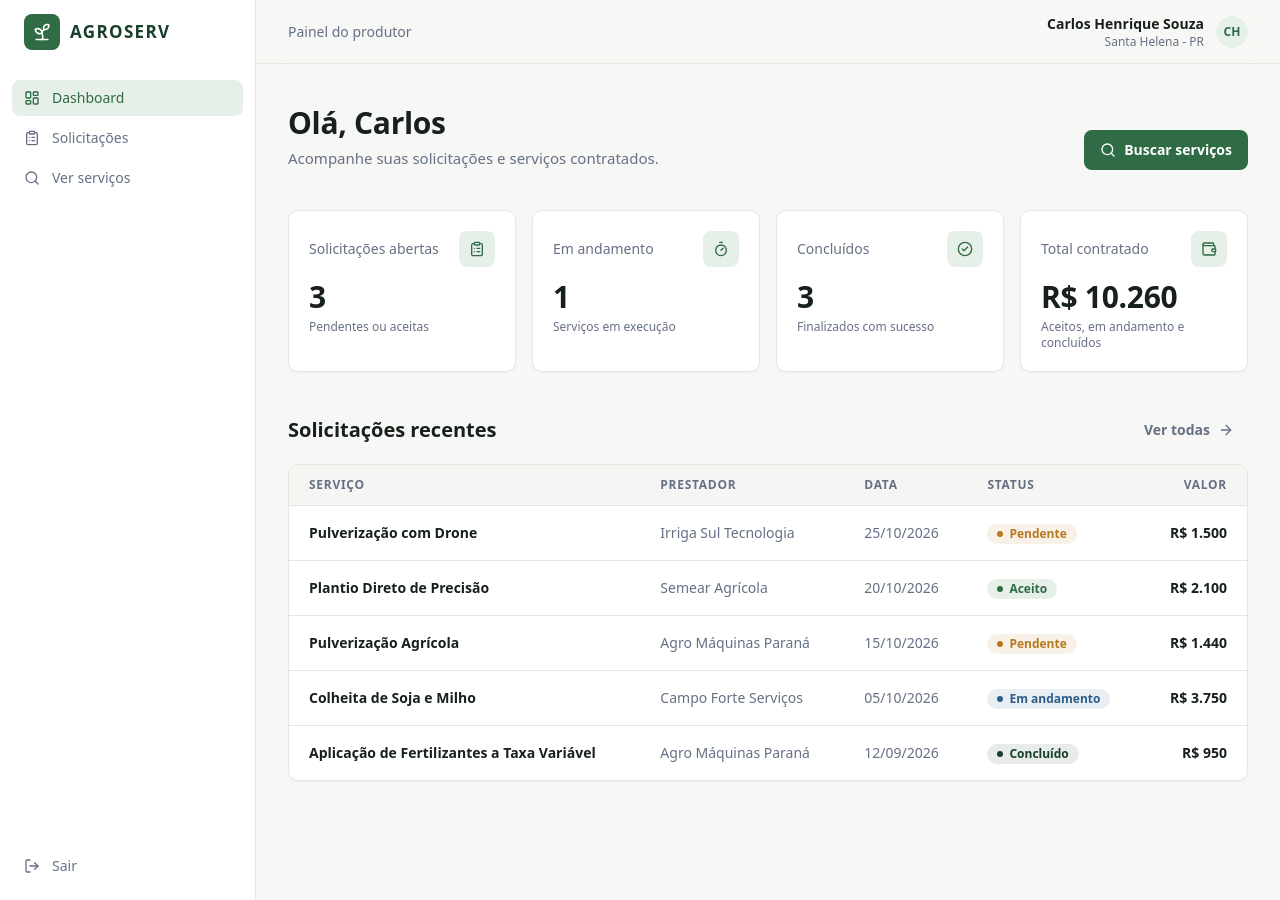
DashboardPage › logs out to the homepage
The width and height of the screenshot is (1280, 900).
Expected: the heading "Olá, Carlos" is shown, 288,102 -> 446,143
Click the button "Sair" at {"x": 128, "y": 866}, box 12,848 -> 243,884
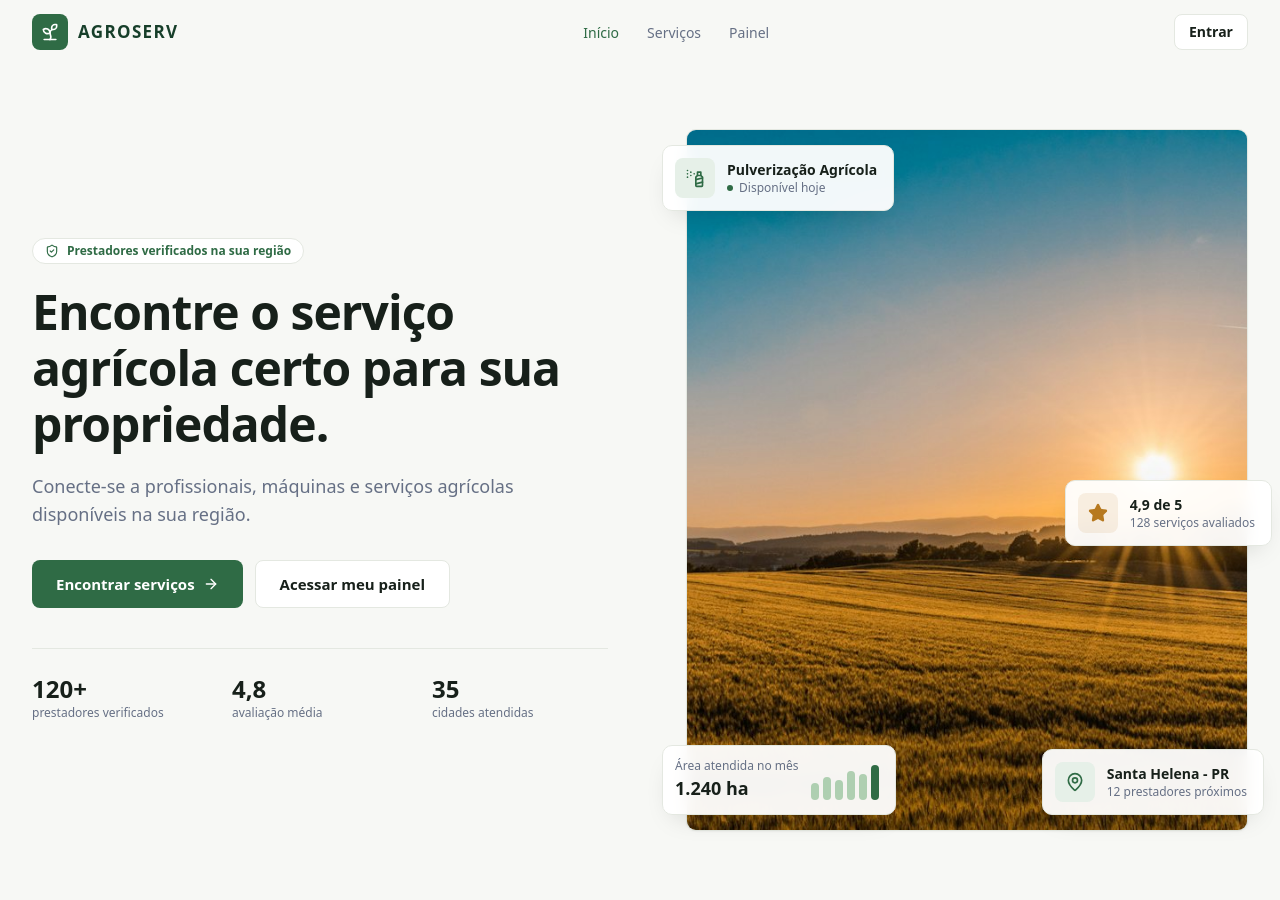
Now the heading "Encontre o serviço agrícola certo para sua propriedade." is shown, box 32,284 -> 608,452
